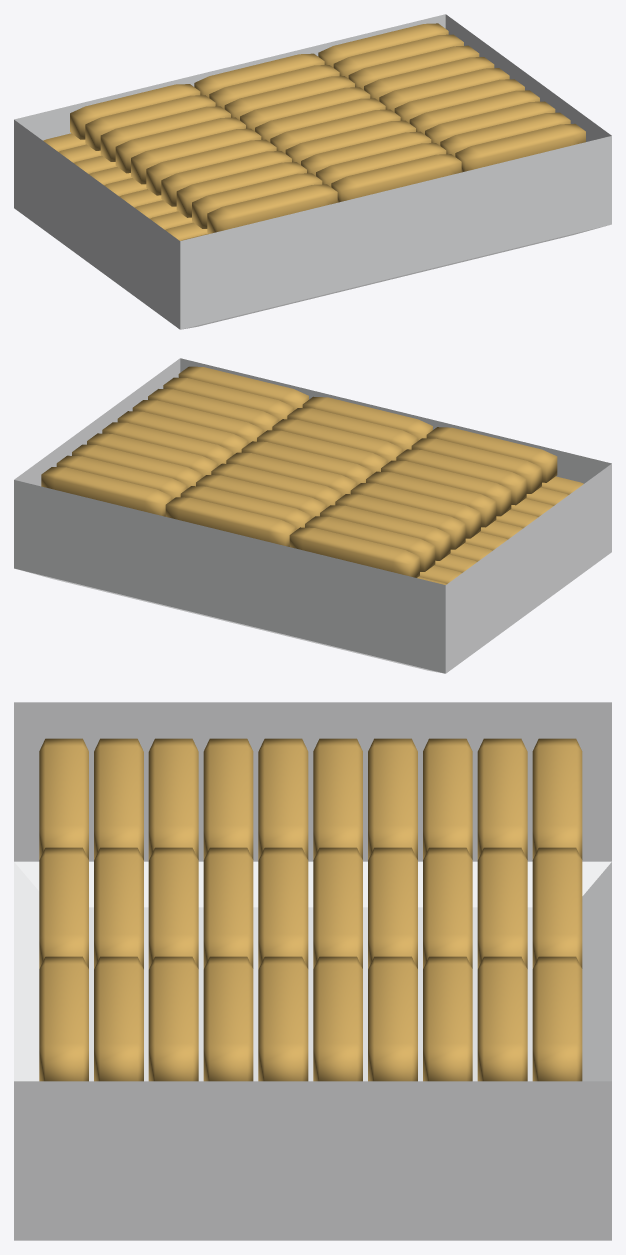
File: nugget-panjang.glb
3 views of the same model, one above another, from view 1: azimuth 30°, elevation 25°; view 2: azimuth 150°, elevation 25°; view 3: azimuth 270°, elevation 25° (orthographic). The views are drawn at different scales.
Visible parts, largest first — view 1: Cube.038; view 2: Cube.038; view 3: Cube.038.
Boxes of the visible parts, box(x1,y1,x2,y2) form: Cube.038: box(14, 14, 611, 329); Cube.038: box(14, 358, 611, 673); Cube.038: box(14, 702, 611, 1240).
Size of the model in its own units: 0.18 by 0.0421 by 0.12.
